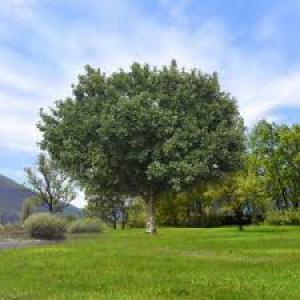Tree: (33, 57, 248, 235)
